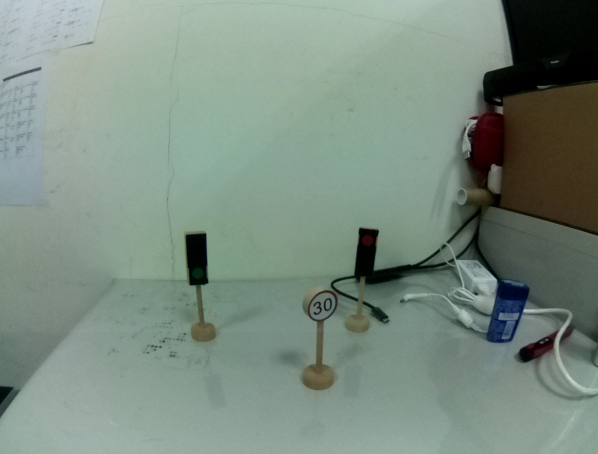Green: (182, 227, 212, 290)
Red: (354, 222, 379, 279)
Speed30: (301, 285, 338, 323)
